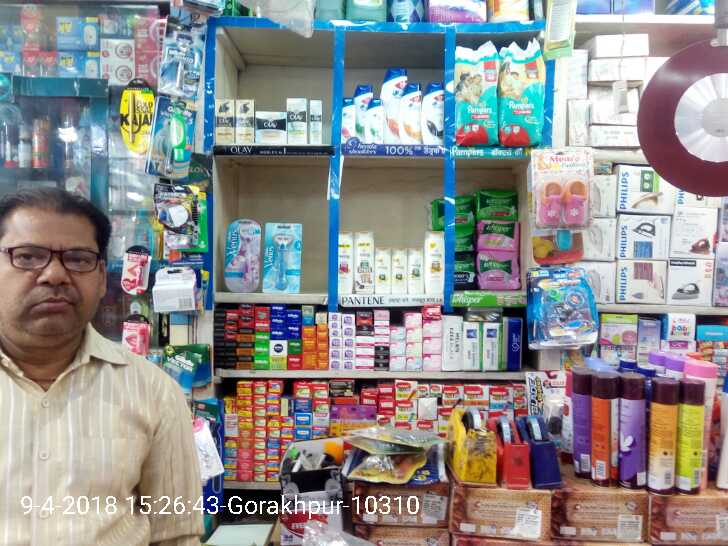gillete: (161, 11, 202, 95), (161, 343, 209, 388), (5, 121, 19, 167)
venus: (262, 222, 302, 294), (225, 218, 260, 292)
